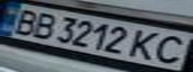1: (87, 20, 112, 53)
2: (106, 24, 133, 56), (69, 18, 93, 50)
3: (48, 14, 78, 45)
B: (3, 7, 45, 36), (24, 10, 63, 40)
C: (148, 33, 193, 65)
K: (124, 28, 166, 62)
